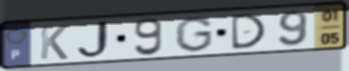9: (276, 9, 310, 48), (132, 17, 165, 57)
D: (229, 12, 268, 52)
G: (173, 15, 215, 53)
J: (75, 18, 115, 61)
K: (38, 23, 70, 61)
